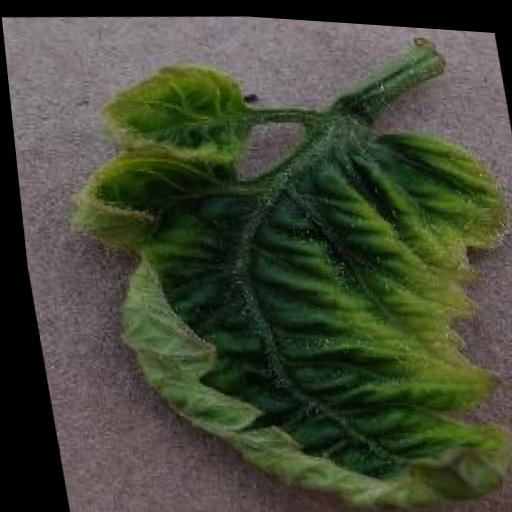Yellow Leaf Curl Virus: (44, 36, 512, 512)
